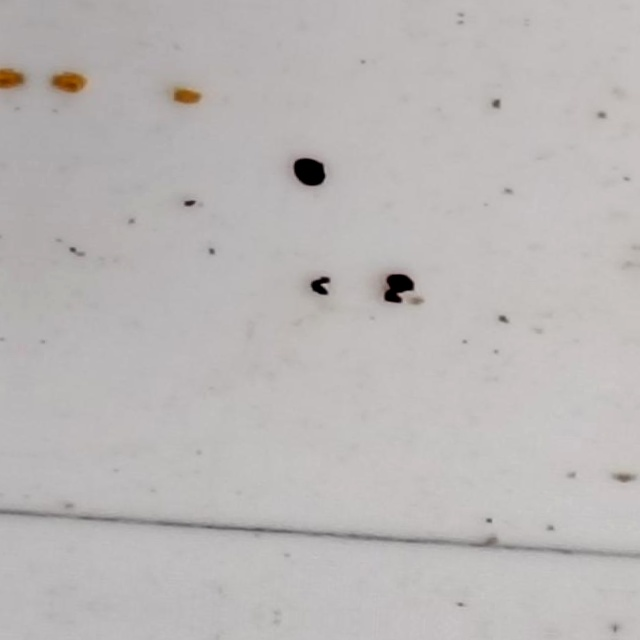varroa: (289, 155, 329, 190)
